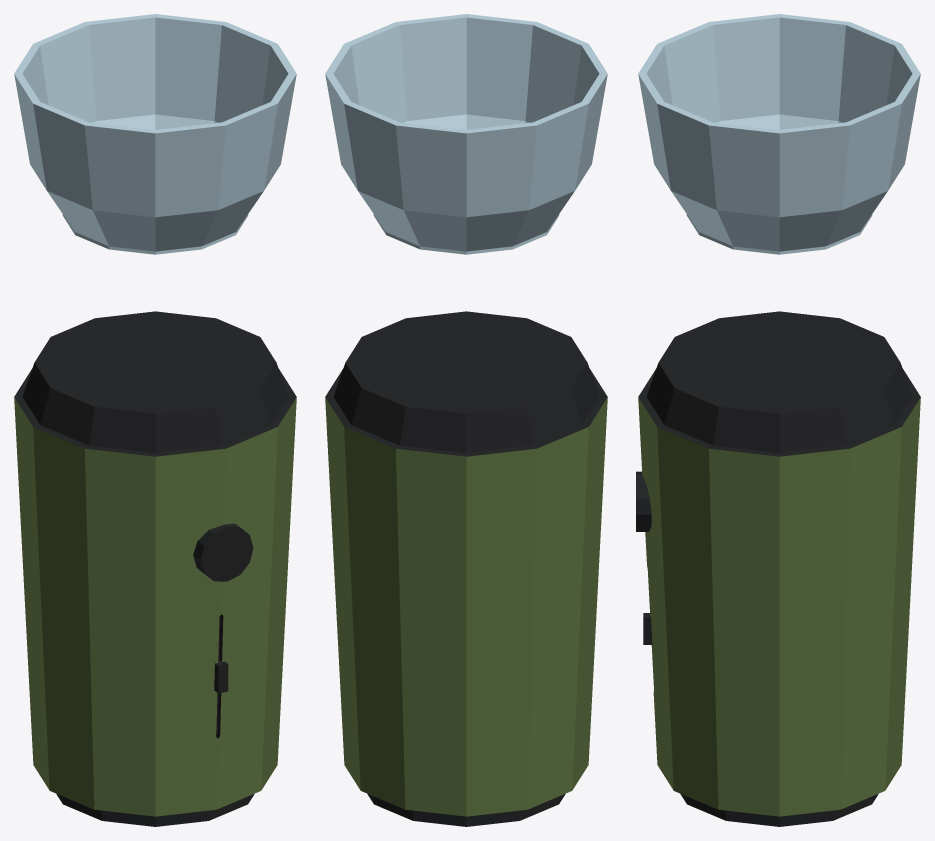
File: coffeegrinders_01_B.gltf
3 renders of one model, left to right at view 1: azimuth 30°, elevation 25°; view 2: azimuth 150°, elevation 25°; view 3: azimuth 270°, elevation 25°, orthographic.
Visible parts, largest first — view 1: coffeegrinders_01_B, Glassforcoffeegrinders_01_B, Switchforcoffeegrinders_02_B; view 2: coffeegrinders_01_B, Glassforcoffeegrinders_01_B; view 3: coffeegrinders_01_B, Glassforcoffeegrinders_01_B, Switchforcoffeegrinders_02_B.
Part boxes in pixels (<box>): coffeegrinders_01_B: <box>14,311,296,826</box>; Glassforcoffeegrinders_01_B: <box>14,14,296,254</box>; Switchforcoffeegrinders_02_B: <box>193,523,253,581</box>; coffeegrinders_01_B: <box>325,311,607,826</box>; Glassforcoffeegrinders_01_B: <box>325,14,607,254</box>; coffeegrinders_01_B: <box>638,311,920,826</box>; Glassforcoffeegrinders_01_B: <box>638,14,920,254</box>; Switchforcoffeegrinders_02_B: <box>636,471,651,531</box>.
Bounding box in the file's own units: 0.1444 × 0.3991 × 0.1455.
1 material, 1 textured.
